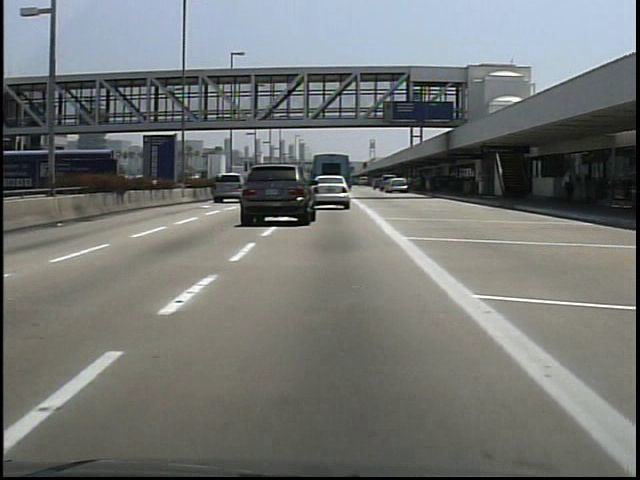person: (556, 166, 577, 208)
